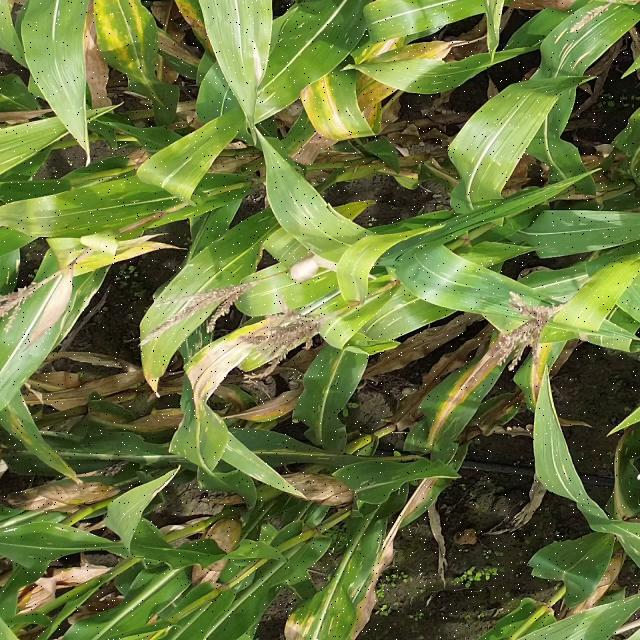gray-leaf-spot: (312, 62, 461, 136), (304, 546, 385, 640), (538, 426, 602, 510), (42, 202, 156, 238), (7, 406, 61, 470), (281, 200, 346, 251), (365, 298, 443, 334), (464, 269, 508, 316)
northern-leaf-blight: (84, 10, 175, 86), (180, 328, 258, 412), (462, 352, 554, 410), (274, 604, 342, 640)
southern-leaf-blight: (192, 430, 282, 487), (556, 214, 626, 261), (312, 355, 344, 430)
